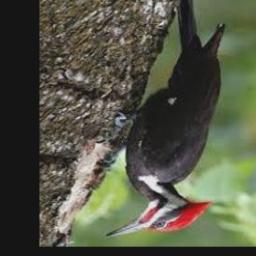Woodpecker: (104, 0, 225, 238)
